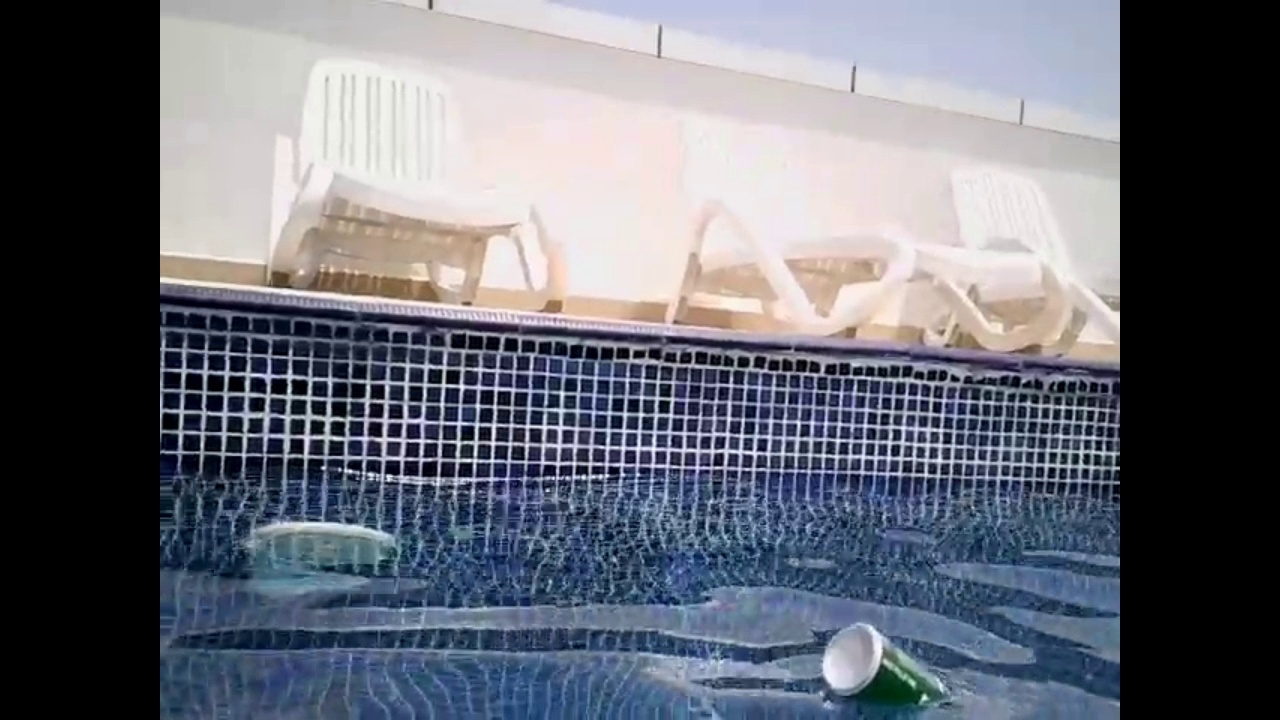debris: (814, 614, 958, 719)
